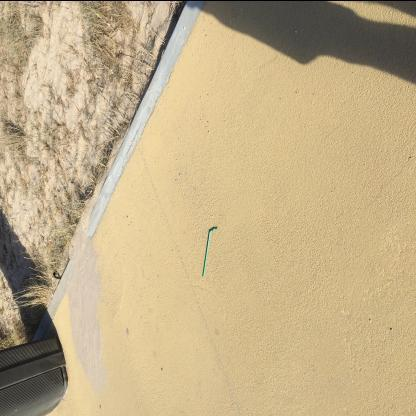plastik: (203, 227, 219, 279)
